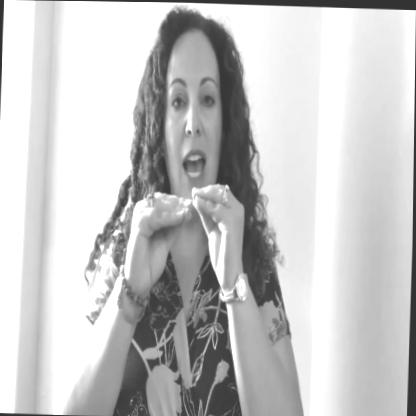Fix: (130, 167, 247, 328)
